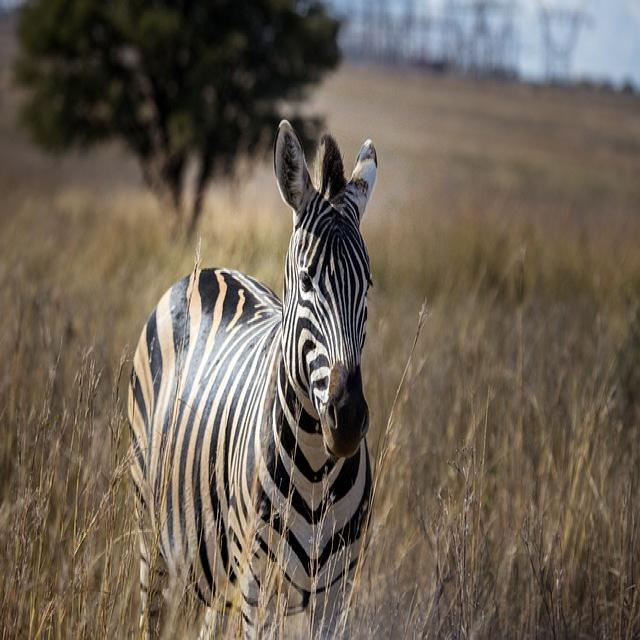Herbivorous: (127, 120, 378, 640)
